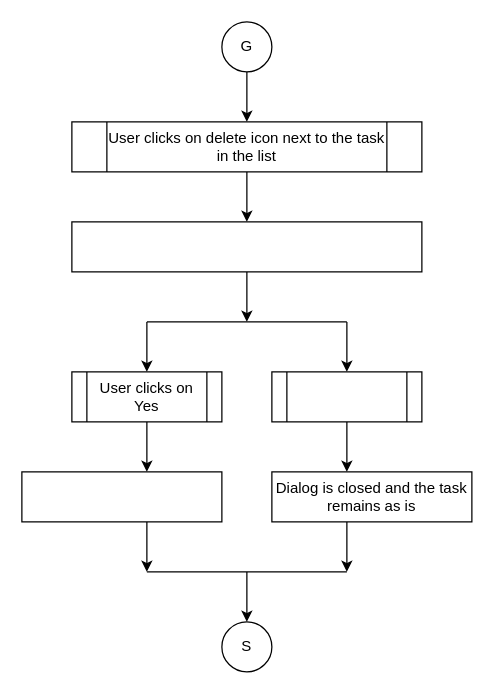
The diagram is 494 pixels wide and 694 high, and some of its shapes have lost their labels. The shapes that lost their labels are listed below. From the top down, each one's box as (x1, y1, x2, y2) in pixels, then its label:
(71, 221, 422, 272): Delete confirmation dialog is opened
(271, 371, 422, 422): User clicks on No
(21, 471, 222, 522): Dialog is closed and the task is deleted
